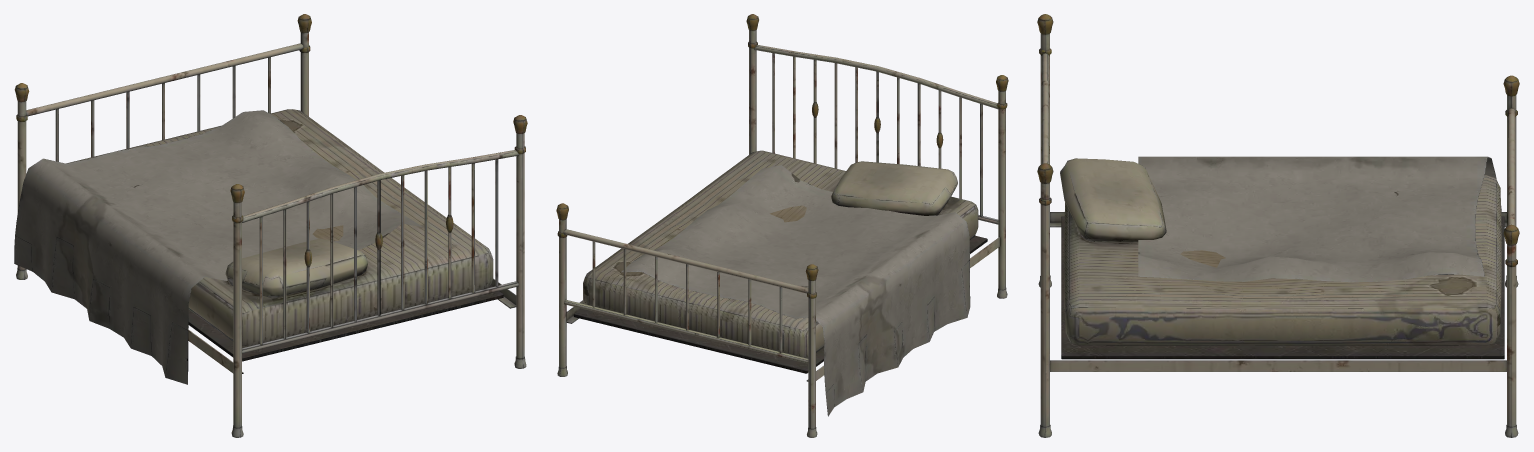
The model's file is furniture_bed.glb.
3 renders of one model, left to right at view 1: azimuth 30°, elevation 25°; view 2: azimuth 150°, elevation 25°; view 3: azimuth 270°, elevation 25°, orthographic. The views are drawn at different scales.
Visible parts, largest first — view 1: furniture_bed; view 2: furniture_bed; view 3: furniture_bed.
Boxes of the visible parts, x1,y1,x2,y2 form: furniture_bed: (14, 14, 527, 437); furniture_bed: (556, 14, 1008, 437); furniture_bed: (1037, 14, 1519, 437).
Size of the model in its own units: 1.69 by 1.32 by 2.13.
Materials: 1 (1 with a texture image).
